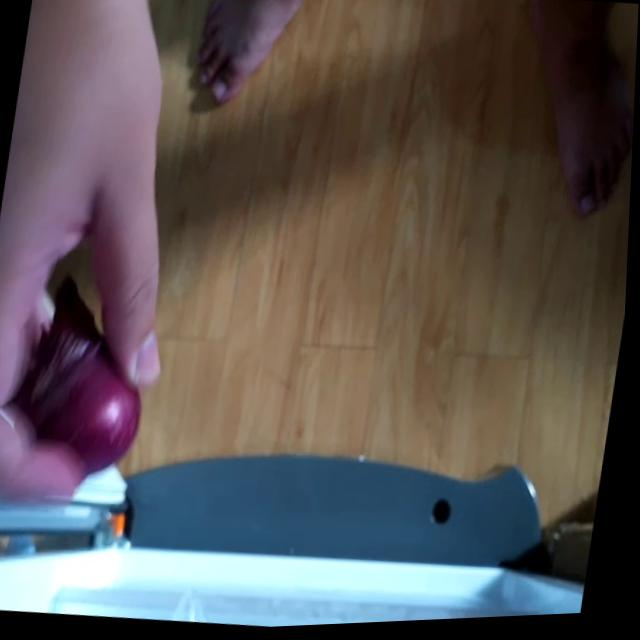onion: (14, 280, 165, 480)
